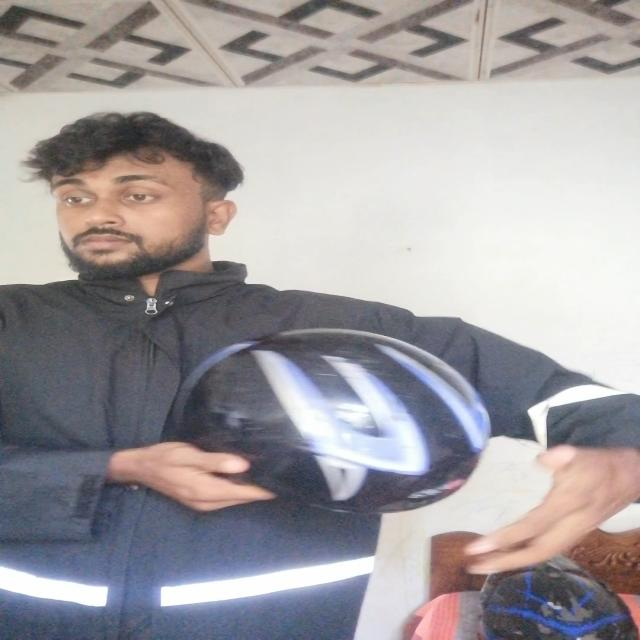Jacket_Wearer: (15, 263, 640, 640)
Person: (4, 101, 499, 640), (21, 104, 22, 105)
